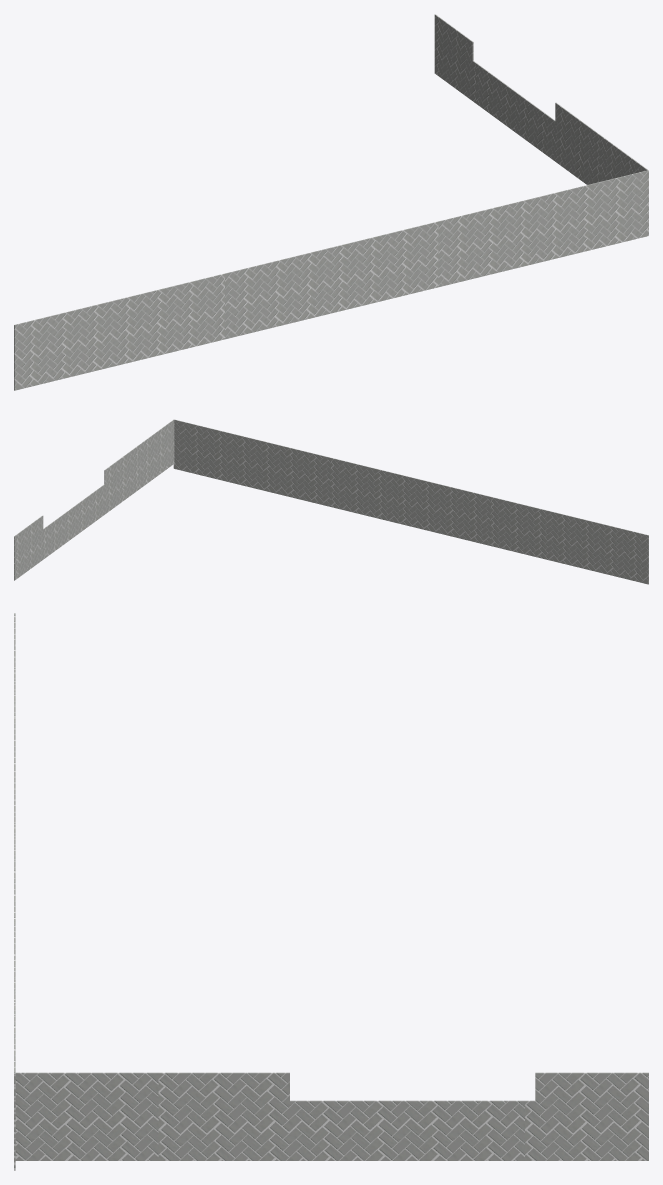
The model's file is 1860_kitchen_BP_Artezen_Ideal_Gray_Herringbone.gltf.
3 renders of one model, top to bottom at view 1: azimuth 30°, elevation 25°; view 2: azimuth 150°, elevation 25°; view 3: azimuth 270°, elevation 25°, orthographic. The views are drawn at different scales.
Parts seen in each view (by area): view 1: BP_Artezen Ideal Gray Herringbone.; view 2: BP_Artezen Ideal Gray Herringbone.; view 3: BP_Artezen Ideal Gray Herringbone..
Boxes of the visible parts, left/top/right/bottom form: BP_Artezen Ideal Gray Herringbone.: left=14, top=14, right=648, bottom=390; BP_Artezen Ideal Gray Herringbone.: left=14, top=419, right=648, bottom=584; BP_Artezen Ideal Gray Herringbone.: left=14, top=613, right=648, bottom=1170.
Size of the model in its own units: 7.1 by 0.7 by 4.14.
1 material, 1 textured.
